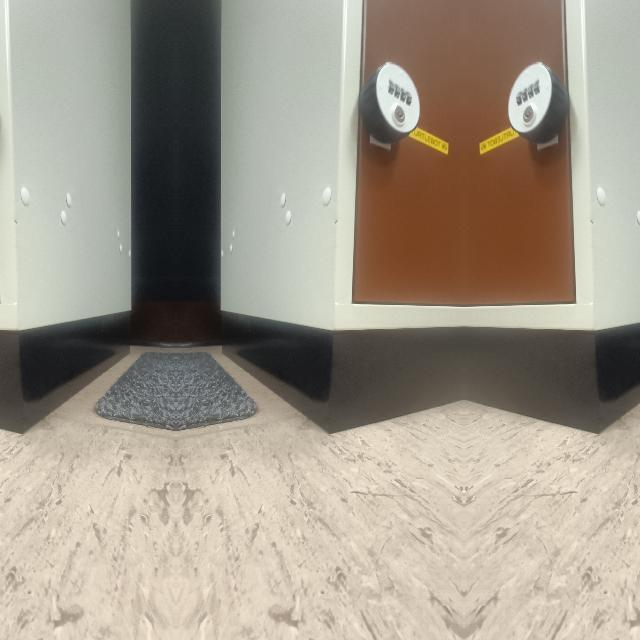obstacle: (215, 31, 463, 433), (464, 31, 640, 433), (0, 31, 135, 433)
